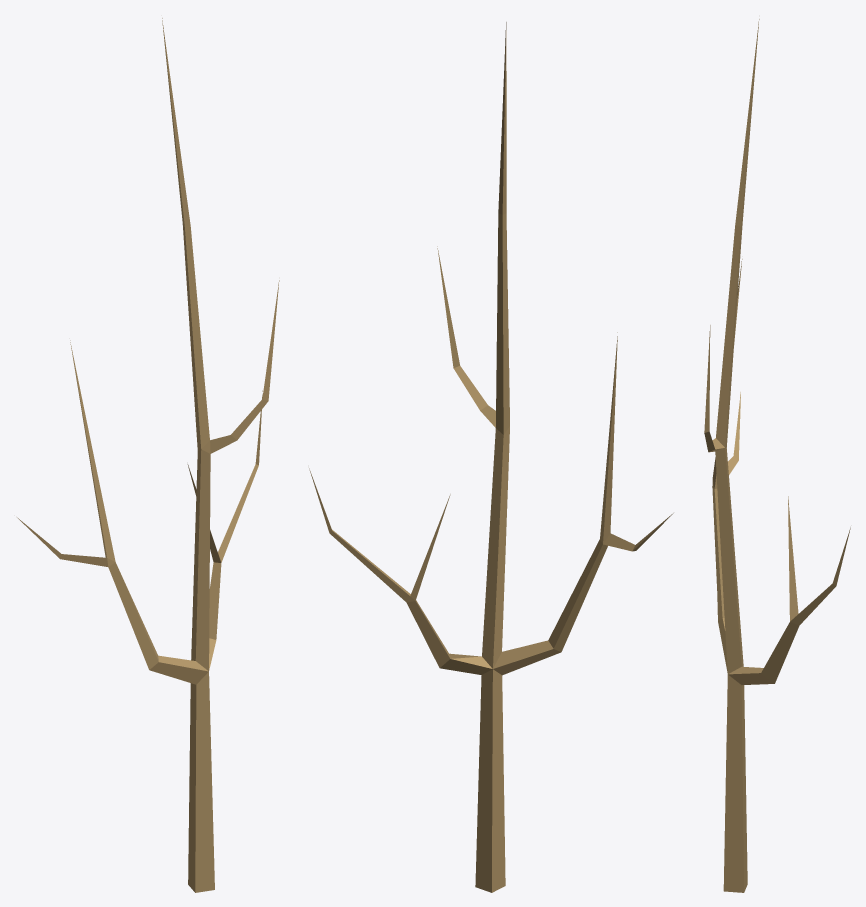
The model's file is Random_Tree_NoLeaves_s_02_LOD.fbx.
3 renders of one model, left to right at view 1: azimuth 30°, elevation 25°; view 2: azimuth 150°, elevation 25°; view 3: azimuth 270°, elevation 25°, orthographic. The views are drawn at different scales.
Visible parts, largest first — view 1: Random_Tree_NoLeaves_s_02_LOD0; view 2: Random_Tree_NoLeaves_s_02_LOD0; view 3: Random_Tree_NoLeaves_s_02_LOD0.
Boxes of the visible parts, x1,y1,x2,y2 form: Random_Tree_NoLeaves_s_02_LOD0: [17, 18, 279, 892]; Random_Tree_NoLeaves_s_02_LOD0: [309, 22, 673, 892]; Random_Tree_NoLeaves_s_02_LOD0: [704, 19, 850, 892].
Size of what is drawn, in the model's own units: 133 by 362 by 56.18.
